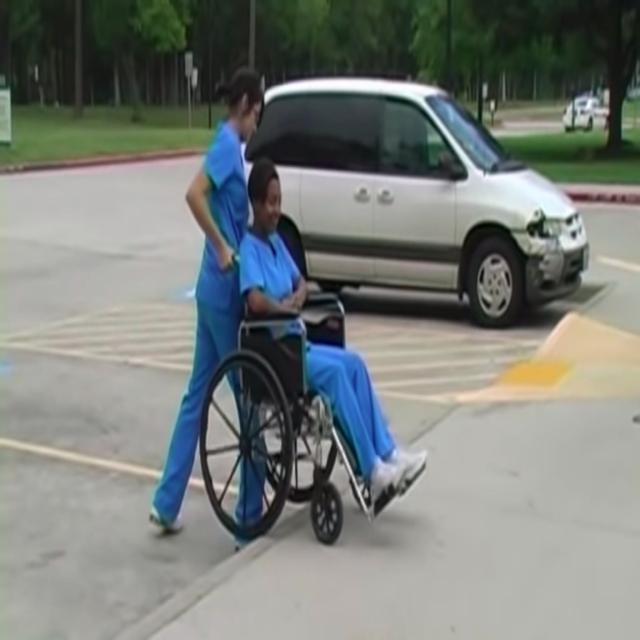wheelchairs: (197, 264, 365, 548)
